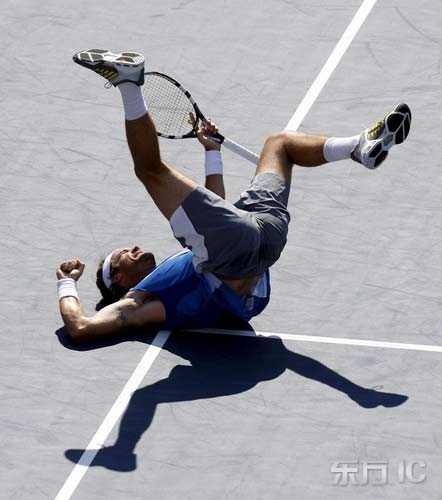down: (42, 36, 422, 362)
